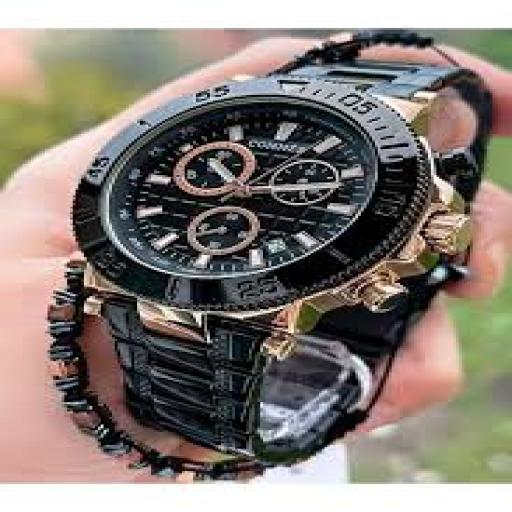KolSaati: (25, 29, 466, 467)
